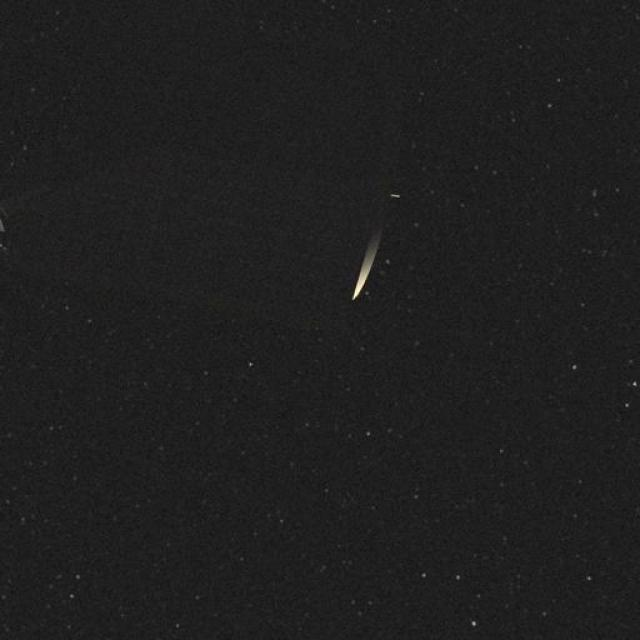debris: (0, 7, 434, 345)
